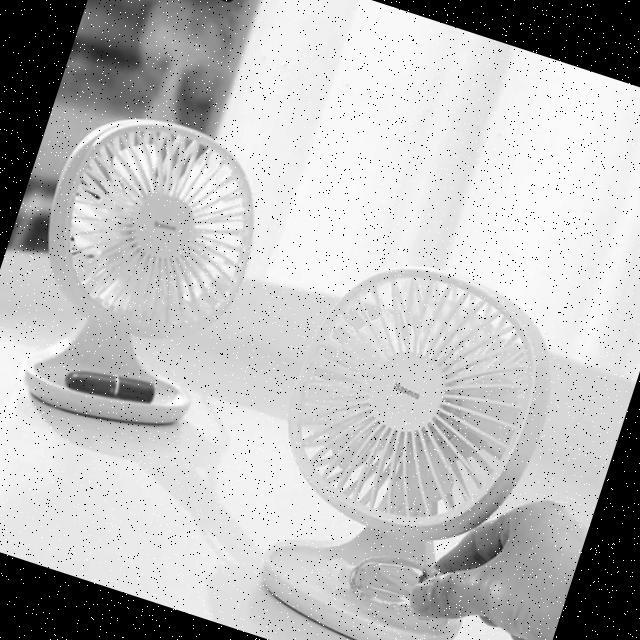fan: (227, 237, 580, 640), (0, 92, 286, 443)
